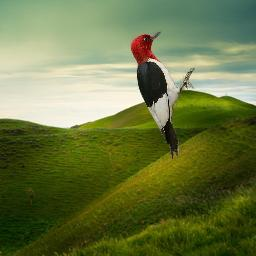Woodpecker: (129, 29, 195, 159)
